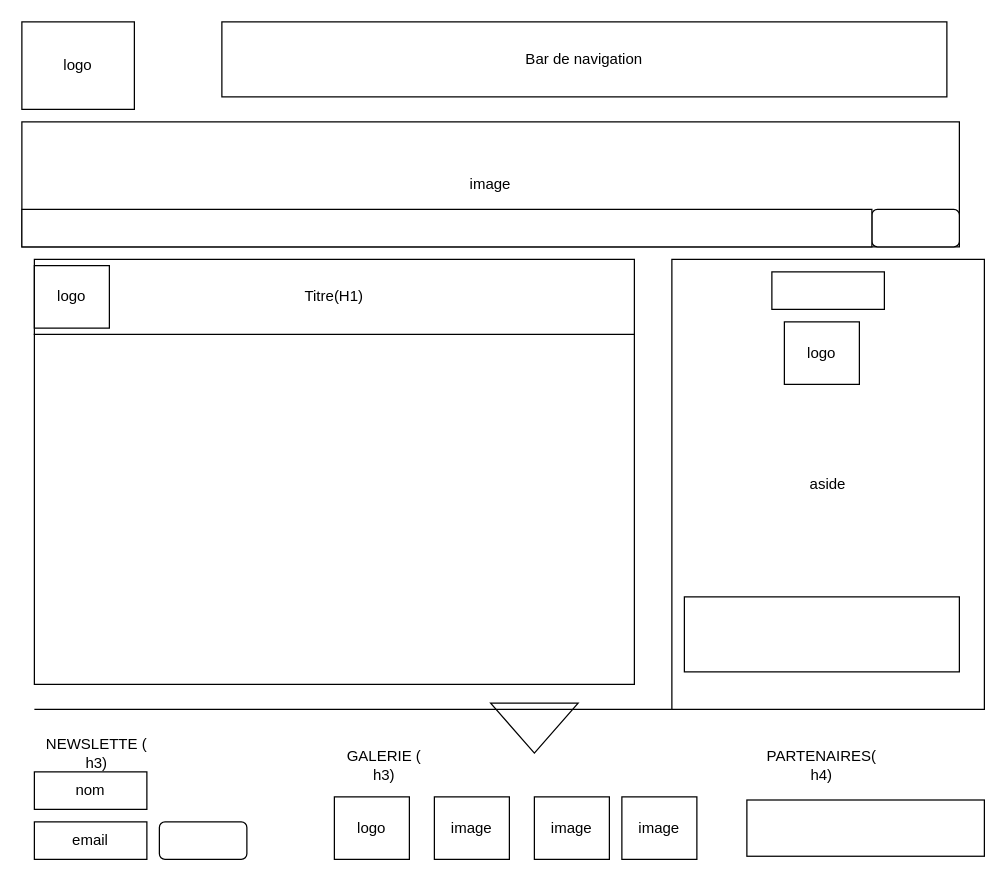
Some shapes in this 1006 by 881 pixel diagram are drawn without their labels. Each missing label, with the centre of its shape:
"A PROPOS(h2)" goes at (827,290).
"article" goes at (333,508).
"bande d'information" goes at (446,227).
"button ( s'ncrire)" goes at (202,840).
"button (Découvrir)" goes at (915,227).
"logo partenaires" goes at (865,827).
"logo resaux sociaux" goes at (821,634).
